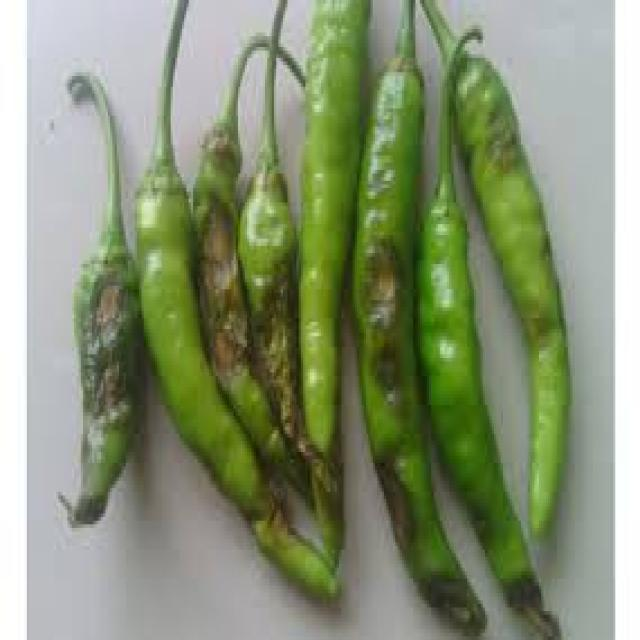food_waste: (74, 0, 566, 636)
